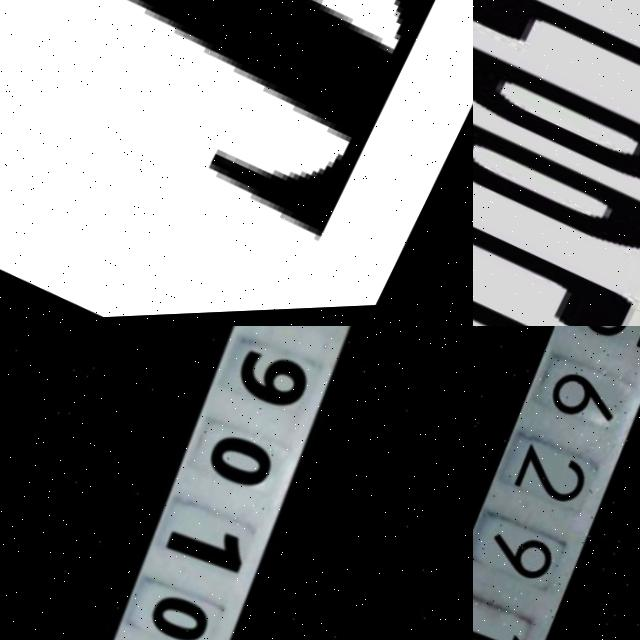0: (189, 415, 295, 511), (130, 575, 229, 640)
1: (156, 493, 264, 590), (473, 581, 539, 640)
2: (499, 427, 608, 527)
5: (561, 326, 640, 371)
6: (534, 349, 640, 446)
8: (248, 326, 361, 351)
9: (473, 125, 620, 326), (216, 330, 330, 434), (473, 510, 572, 599)
B: (473, 0, 640, 295)
E: (473, 67, 636, 326), (473, 0, 640, 169)
P: (473, 0, 640, 222), (473, 0, 640, 68)
T: (0, 0, 472, 264)
